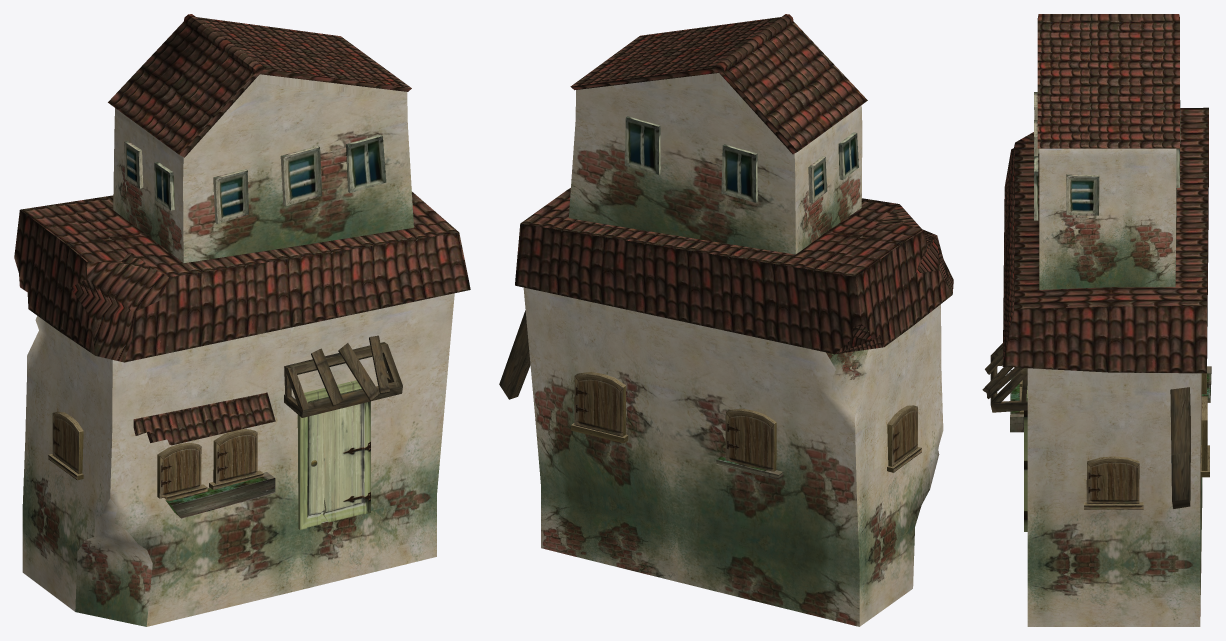
The model's file is pir_m_bld_spn_houseK_destroyed.fbx.
3 renders of one model, left to right at view 1: azimuth 30°, elevation 25°; view 2: azimuth 150°, elevation 25°; view 3: azimuth 270°, elevation 25°, orthographic. The views are drawn at different scales.
Parts seen in each view (by area): view 1: polySurface341, roof_lower, top_floor, polySurface338, door, roof_sm, awning_frame, window.001, window_box_col3, window51, window1, window2 (+7 smaller); view 2: polySurface341, roof_lower, top_floor, polySurface338, window.003, spWin_rndw_wp3, window49, window50, window.002, support6, window47, window48; view 3: polySurface341, roof_lower, polySurface338, top_floor, window.004, support6, window46, awning_frame, window.003, window_box_col3, window1.003.
Part boxes in pixels (x1=…): polySurface341: x1=22, y1=293, x2=454, y2=626; roof_lower: x1=14, y1=192, x2=470, y2=362; top_floor: x1=113, y1=74, x2=413, y2=262; polySurface338: x1=108, y1=14, x2=411, y2=157; door: x1=307, y1=388, x2=363, y2=527; roof_sm: x1=133, y1=392, x2=275, y2=445; awning_frame: x1=284, y1=342, x2=402, y2=417; window.001: x1=157, y1=442, x2=201, y2=498; window_box_col3: x1=165, y1=472, x2=275, y2=518; window51: x1=213, y1=429, x2=257, y2=483; window1: x1=280, y1=145, x2=322, y2=206; window2: x1=346, y1=134, x2=386, y2=192; polySurface341: x1=523, y1=287, x2=943, y2=626; roof_lower: x1=515, y1=188, x2=953, y2=354; top_floor: x1=568, y1=73, x2=862, y2=254; polySurface338: x1=570, y1=14, x2=867, y2=154; window.003: x1=574, y1=372, x2=626, y2=436; spWin_rndw_wp3: x1=725, y1=408, x2=776, y2=471; window49: x1=721, y1=144, x2=757, y2=202; window50: x1=624, y1=116, x2=660, y2=174; window.002: x1=887, y1=405, x2=917, y2=466; support6: x1=499, y1=310, x2=530, y2=399; window47: x1=838, y1=132, x2=858, y2=179; window48: x1=808, y1=156, x2=827, y2=203; polySurface341: x1=1024, y1=368, x2=1202, y2=626; roof_lower: x1=1002, y1=107, x2=1208, y2=373; polySurface338: x1=1037, y1=14, x2=1179, y2=148; top_floor: x1=1039, y1=148, x2=1176, y2=289; window.004: x1=1086, y1=456, x2=1139, y2=503; support6: x1=1170, y1=387, x2=1190, y2=508; window46: x1=1066, y1=174, x2=1099, y2=215; awning_frame: x1=990, y1=343, x2=1027, y2=412; window.003: x1=1201, y1=396, x2=1207, y2=470; window_box_col3: x1=1010, y1=370, x2=1023, y2=432; window1.003: x1=1084, y1=502, x2=1143, y2=509.
Bounding box in the file's own units: 3269 × 4274 × 1680.
Materials: 1 (1 with a texture image).
